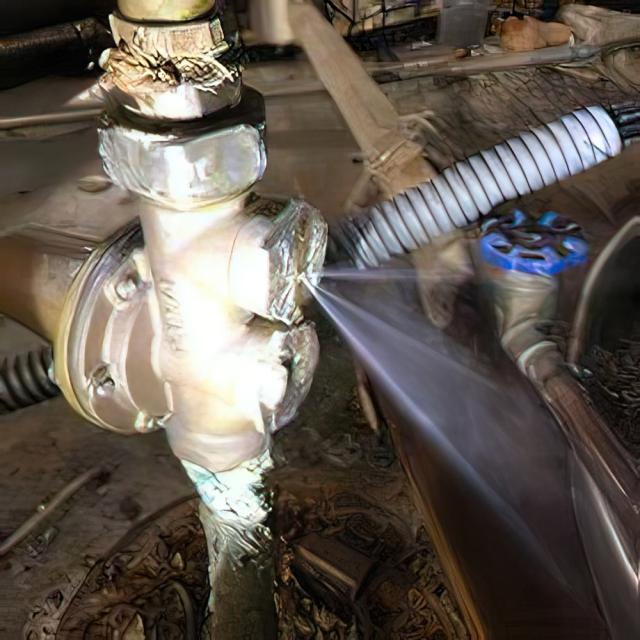leak: (312, 268, 574, 639)
